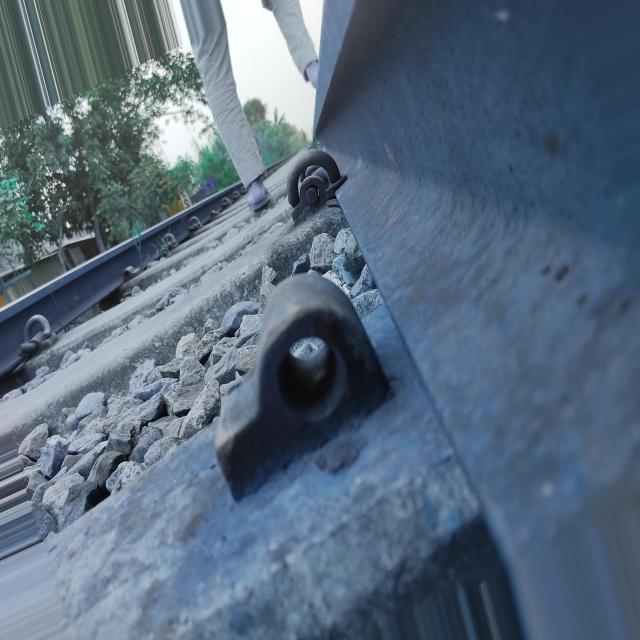Good Fasteners: (265, 132, 372, 230)
Missing Fastener: (182, 259, 440, 579)
